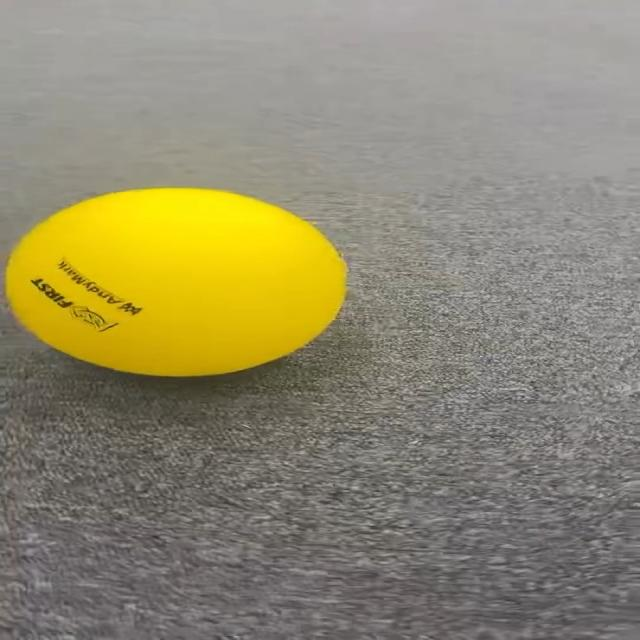Fuels: (6, 189, 347, 373)
